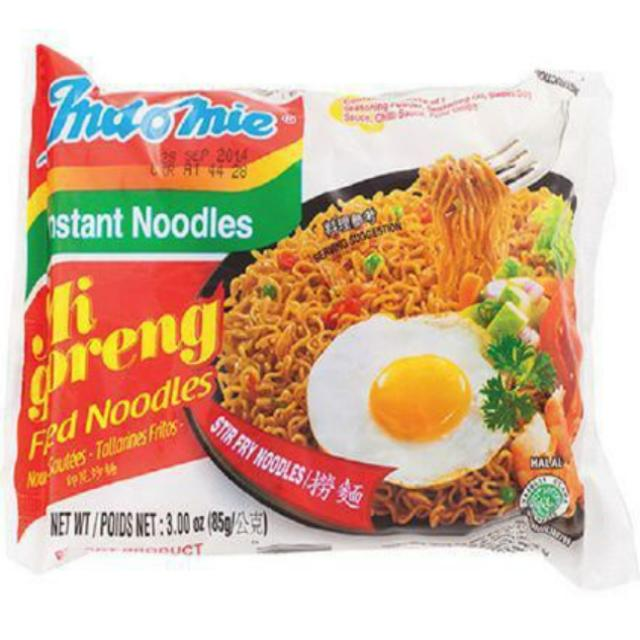KemasanPlastik: (22, 48, 584, 540)
